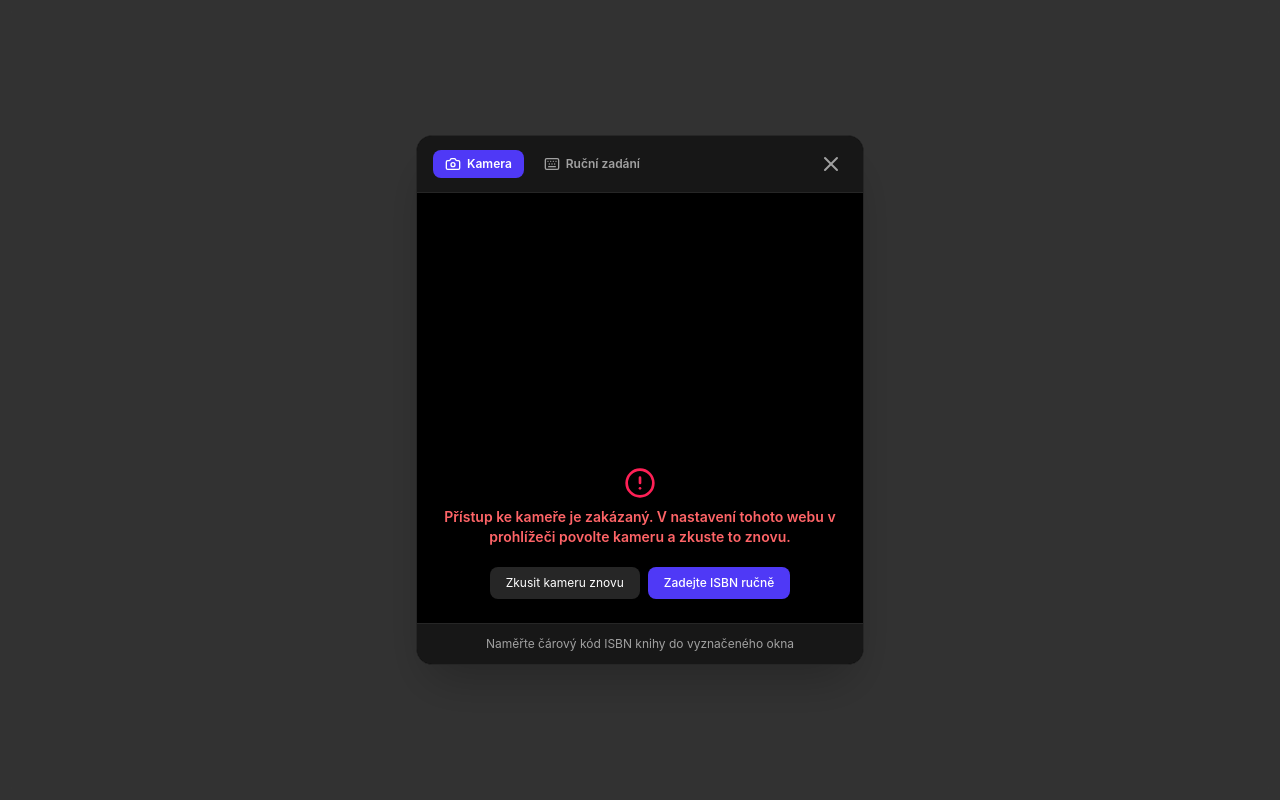
Test: camera scanner › explains denied permissions and allows retrying the camera
Expected: the text "Přístup ke kameře je zakázaný" is shown, [444,508,836,545]
Click the button "Zkusit kameru znovu". click: (565, 583)
box: [490,567,640,599]
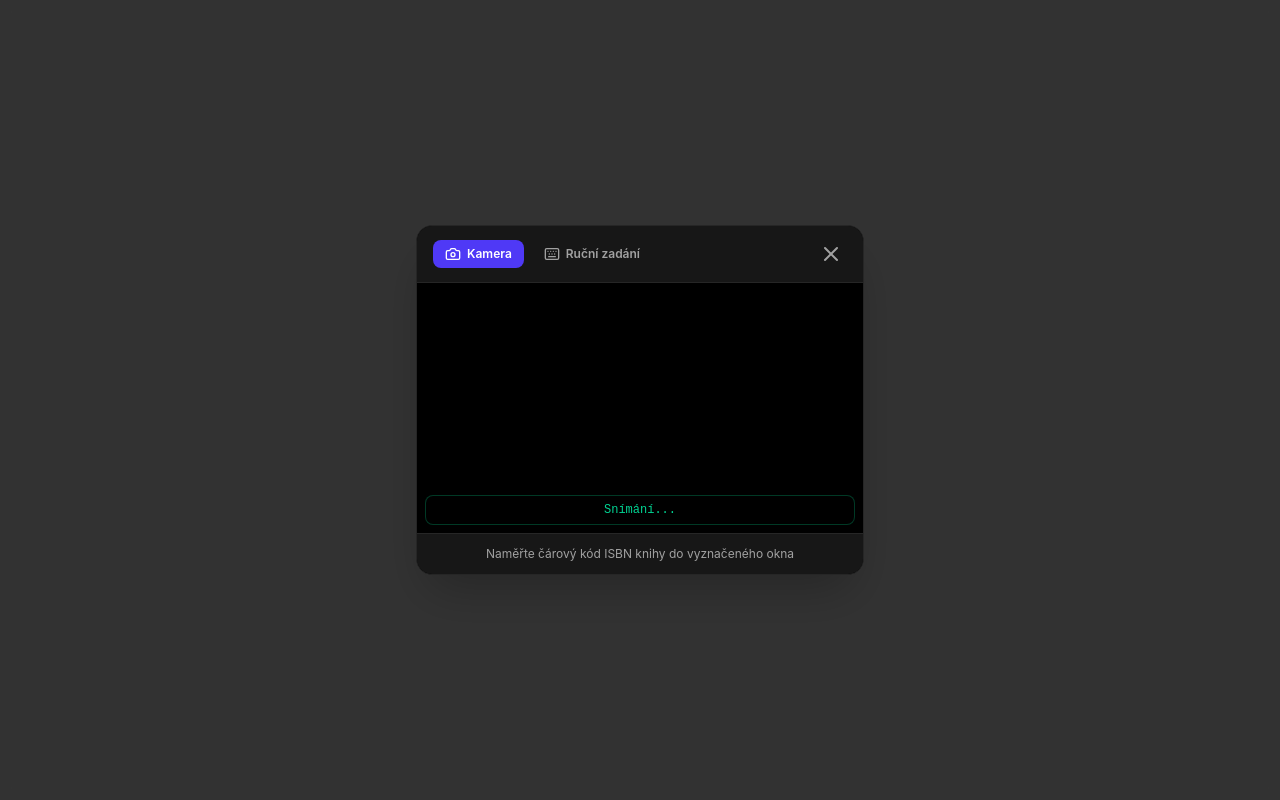
Expected: the text "Přístup ke kameře je zakázaný" is gone
